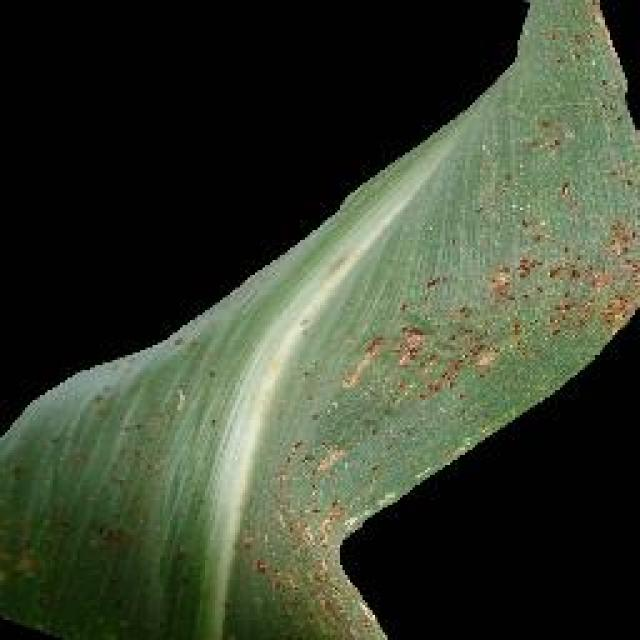Corn Common Rust: (154, 37, 544, 543)
